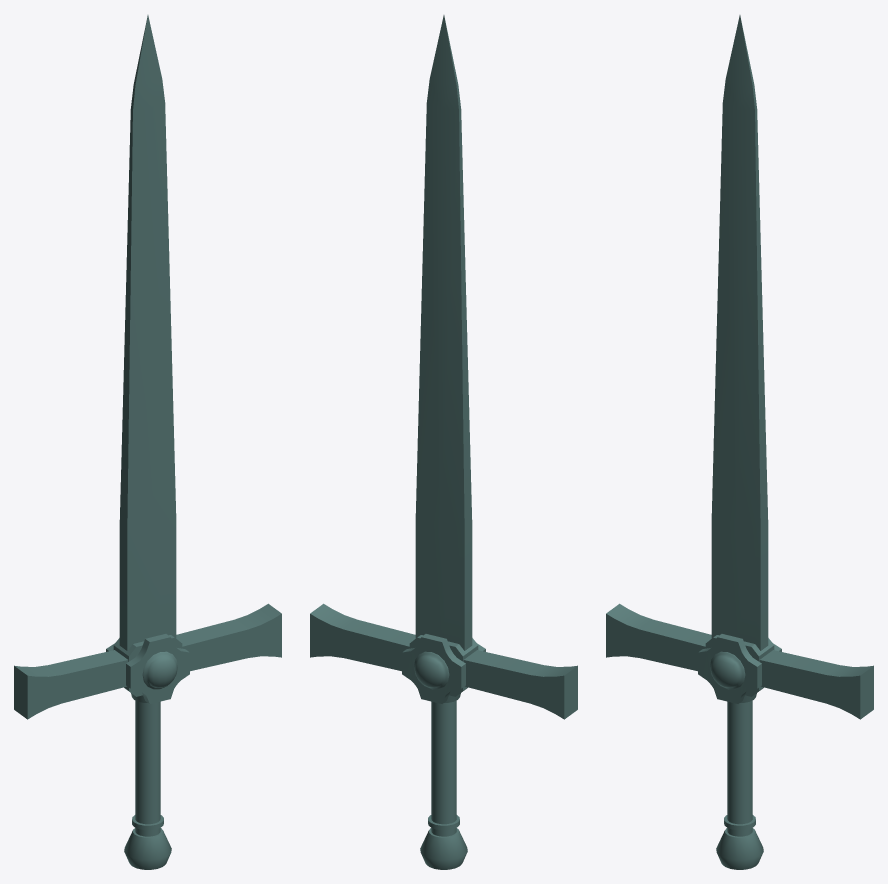
Rendered from SM_mon_sword.fbx.
3 renders of one model, left to right at view 1: azimuth 30°, elevation 25°; view 2: azimuth 150°, elevation 25°; view 3: azimuth 330°, elevation 25°, orthographic.
Parts seen in each view (by area): view 1: sword_low; view 2: sword_low; view 3: sword_low.
Part boxes in pixels (x1,y1,x2,y2): sword_low: (14,15,281,869); sword_low: (310,15,577,869); sword_low: (606,15,873,869).
Bounding box in the file's own units: 34.52 × 110 × 8.59.
